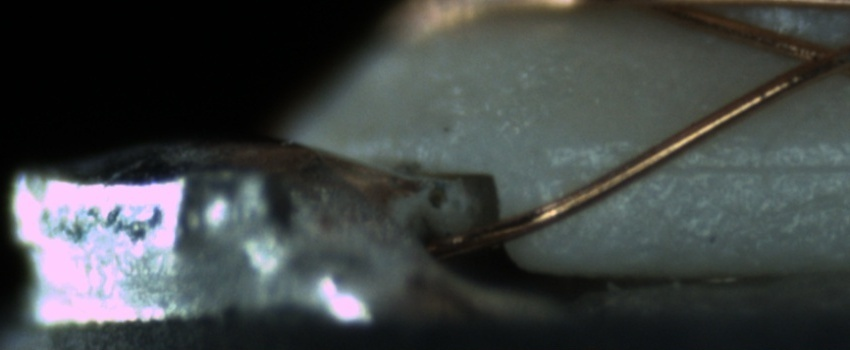CL: (771, 27, 847, 87)
DL: (567, 135, 849, 197)
